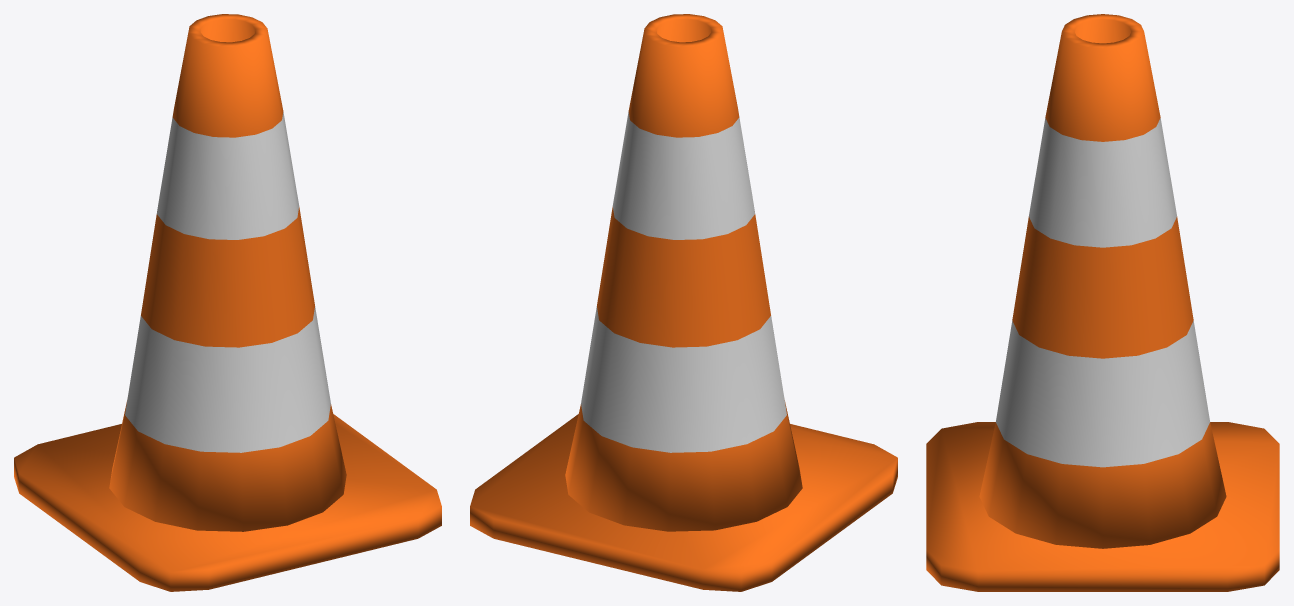
The model's file is Warnkegel.glb.
3 views of the same model, side by side, from view 1: azimuth 30°, elevation 25°; view 2: azimuth 150°, elevation 25°; view 3: azimuth 270°, elevation 25° (orthographic). The views are drawn at different scales.
Visible parts, largest first — view 1: Cone; view 2: Cone; view 3: Cone.
Boxes of the visible parts, bbox=[...] form: Cone: bbox=[14, 14, 441, 591]; Cone: bbox=[470, 14, 897, 591]; Cone: bbox=[926, 14, 1279, 591].
Size of the model in its own units: 0.3171 by 0.4808 by 0.3171.
